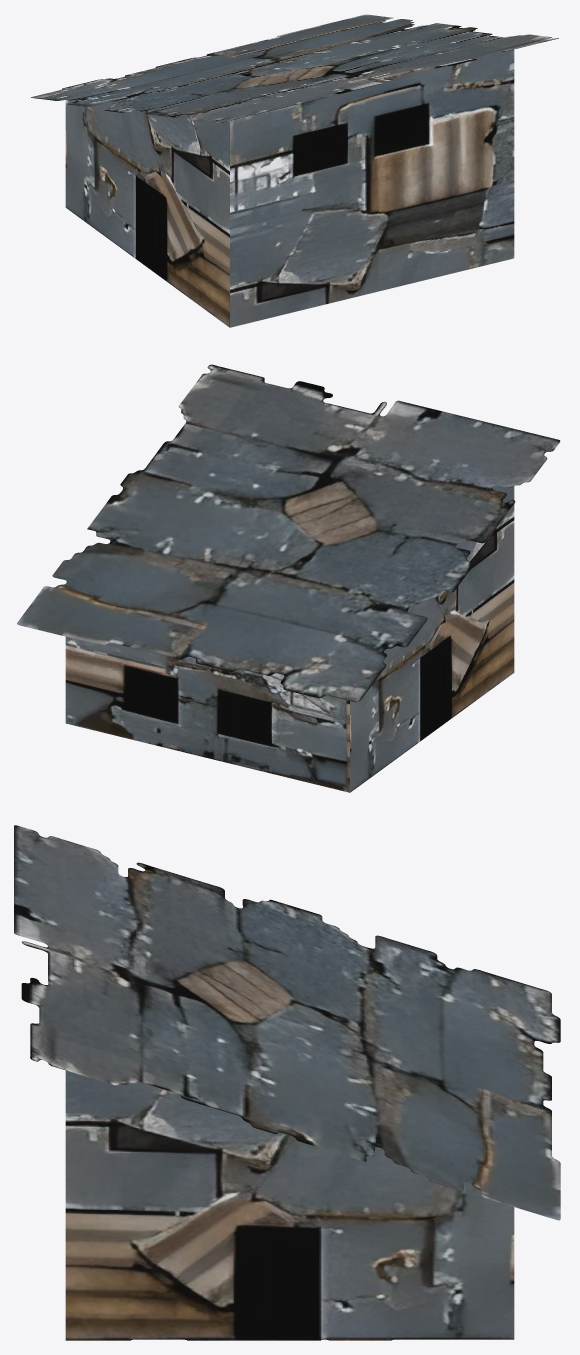
Rendered from crashshanty1_hdtex.glb.
3 views of the same model, one above another, from view 1: azimuth 30°, elevation 25°; view 2: azimuth 150°, elevation 25°; view 3: azimuth 270°, elevation 25° (orthographic). The views are drawn at different scales.
Visible parts, largest first — view 1: CrashShanty1; view 2: CrashShanty1; view 3: CrashShanty1.
Part boxes in pixels (bbox=[...]): CrashShanty1: bbox=[31, 14, 558, 327]; CrashShanty1: bbox=[17, 364, 560, 792]; CrashShanty1: bbox=[14, 825, 560, 1340].
Size of the model in its own units: 6.98 by 4.29 by 6.98.
1 material, 1 textured.
